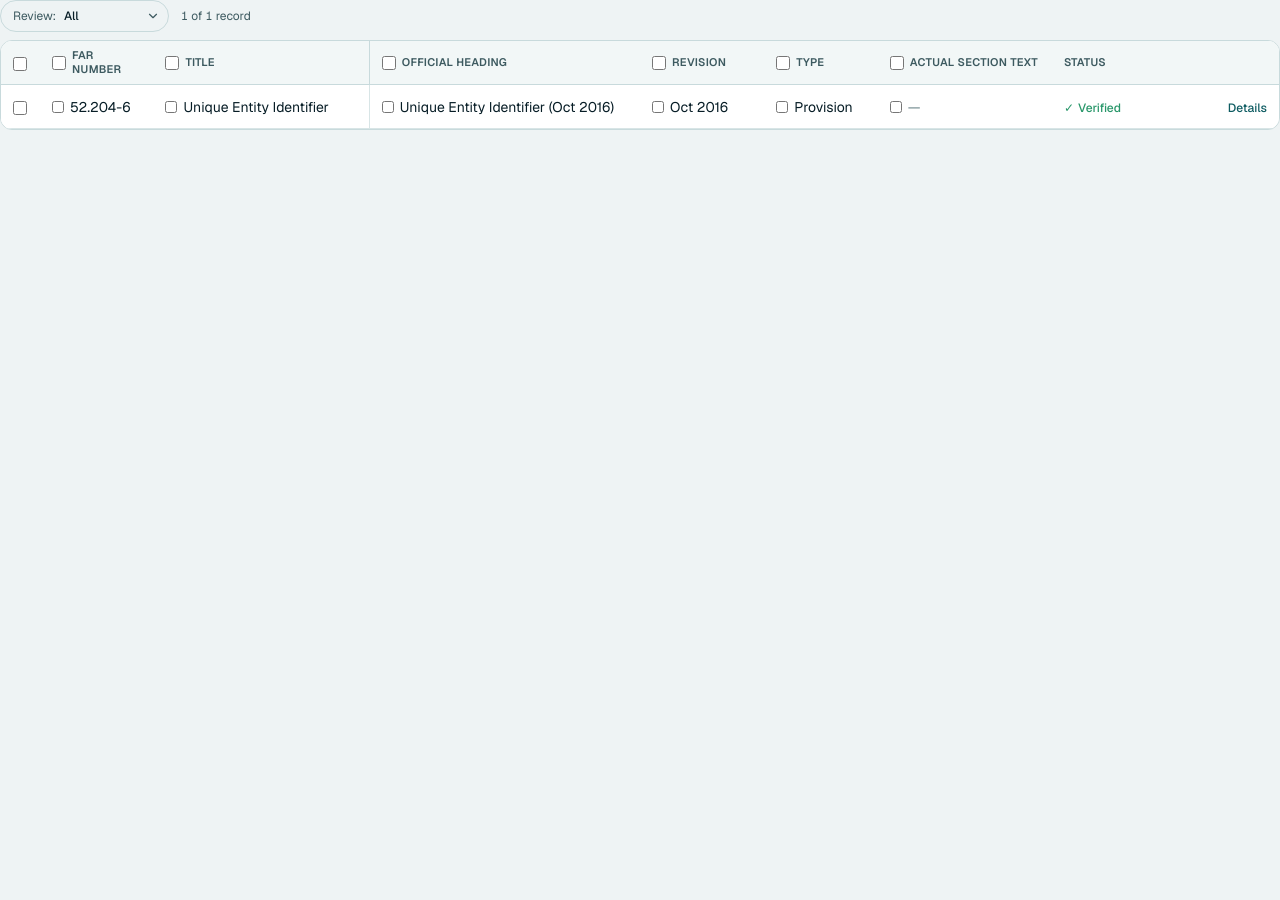
it: compact grid (grid_fields) › shows every column of a dataset without grid fields; evidence lives in the record drawer
Click the button "Details": [1247, 108] box [1228,100,1267,116]
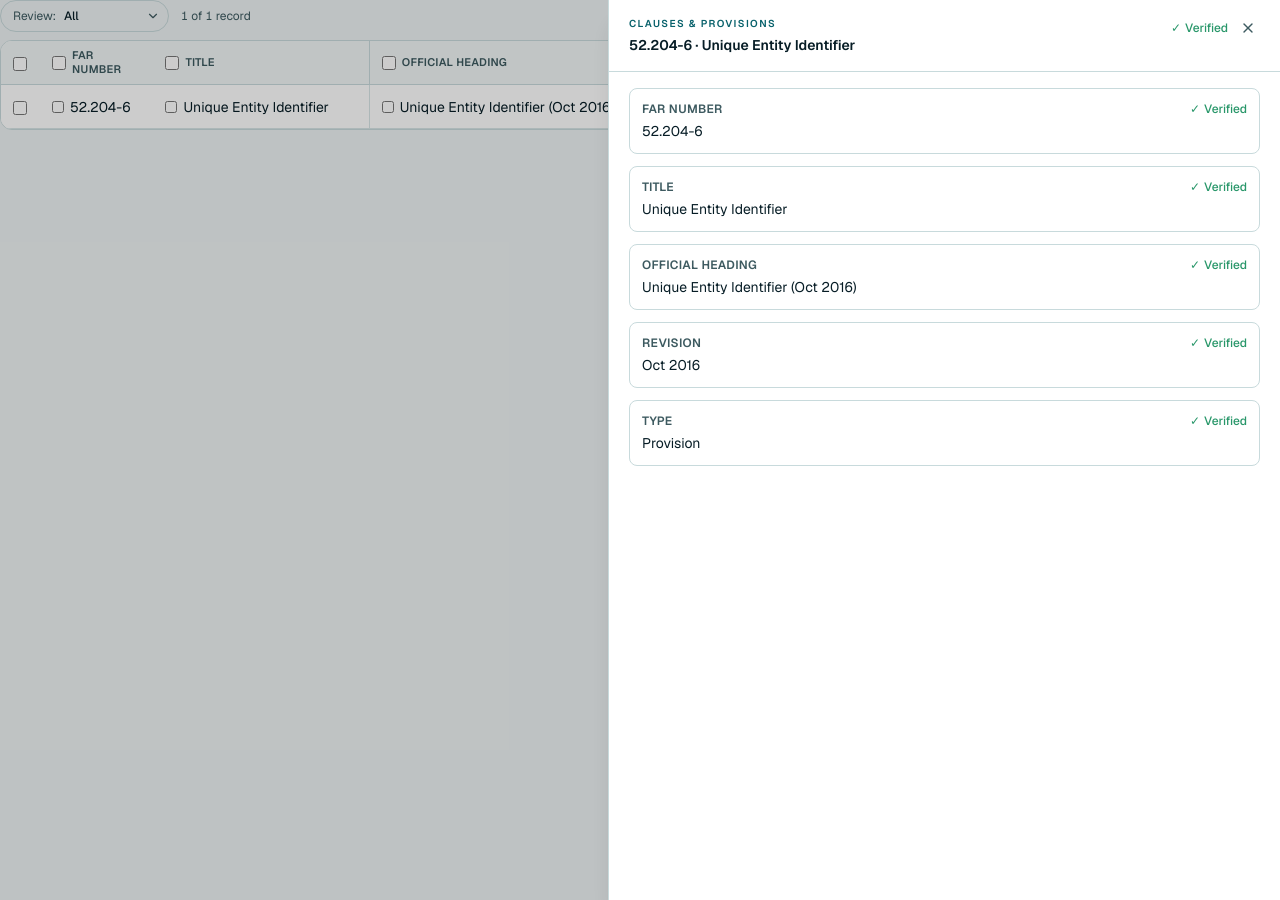
Expected: the dialog named "Record details" is shown
